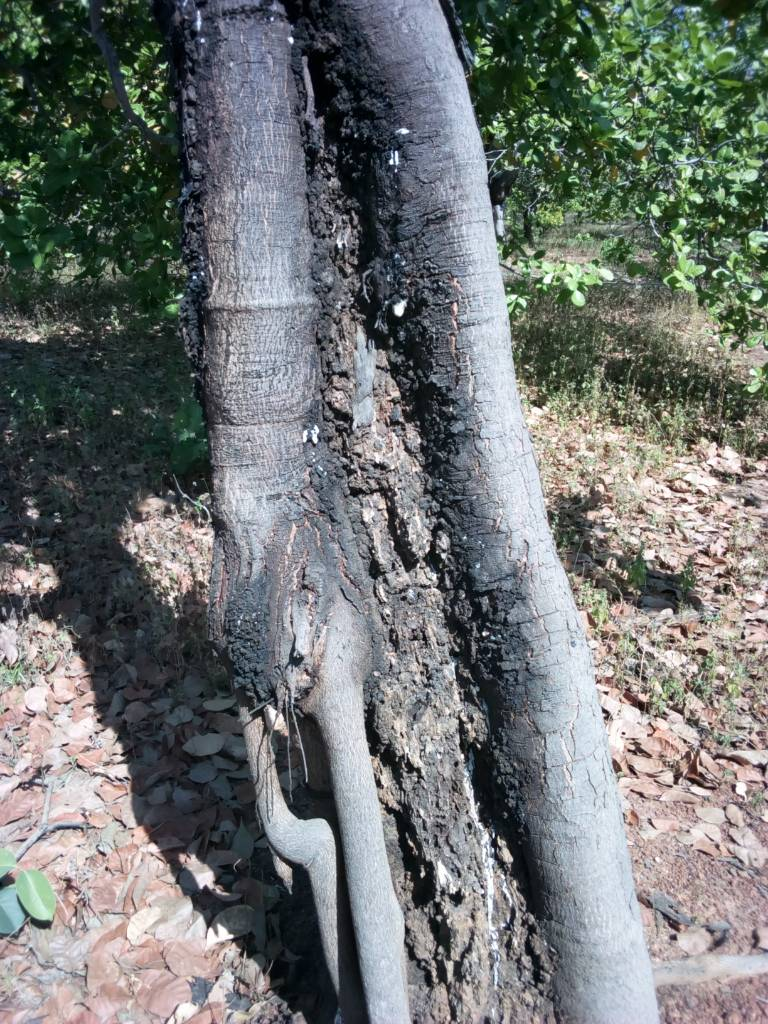Termites: (344, 258, 468, 688), (408, 711, 529, 1016)
